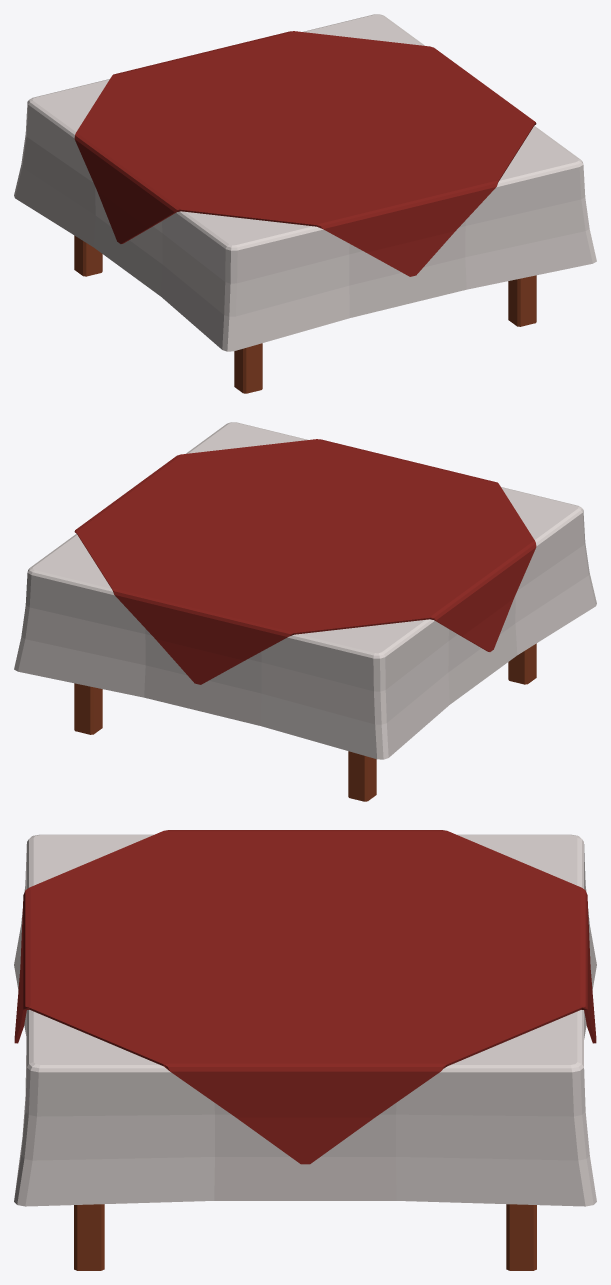
File: Mesa02.fbx
3 renders of one model, top to bottom at view 1: azimuth 30°, elevation 25°; view 2: azimuth 150°, elevation 25°; view 3: azimuth 270°, elevation 25°, orthographic. The views are drawn at different scales.
Visible parts, largest first — view 1: Mesa_Con_Mantel; view 2: Mesa_Con_Mantel; view 3: Mesa_Con_Mantel.
Boxes of the visible parts, box(x1,y1,x2,y2) form: Mesa_Con_Mantel: box(14, 14, 596, 393); Mesa_Con_Mantel: box(14, 422, 596, 801); Mesa_Con_Mantel: box(14, 830, 596, 1270).
Bounding box in the file's own units: 202 × 86.41 × 202.
